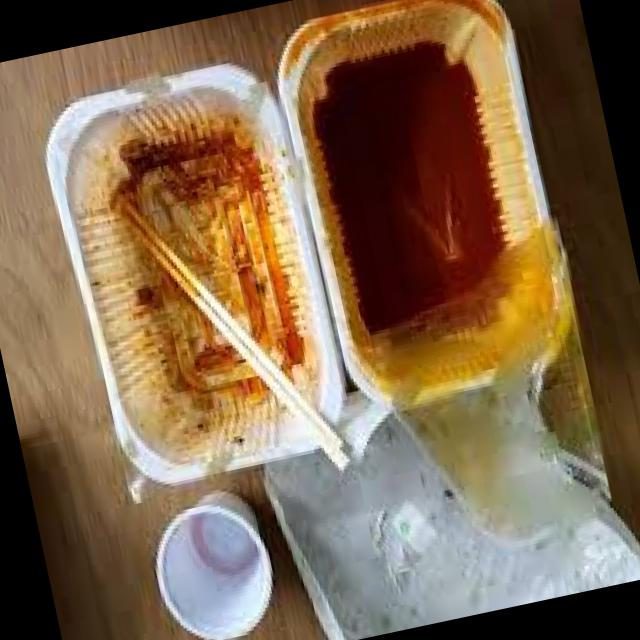plastic-bag: (361, 220, 619, 543)
plastic-bowl: (29, 40, 371, 502), (261, 0, 591, 436)
plastic-cup: (149, 484, 277, 640)
wooden chopsticks: (115, 185, 355, 478)
